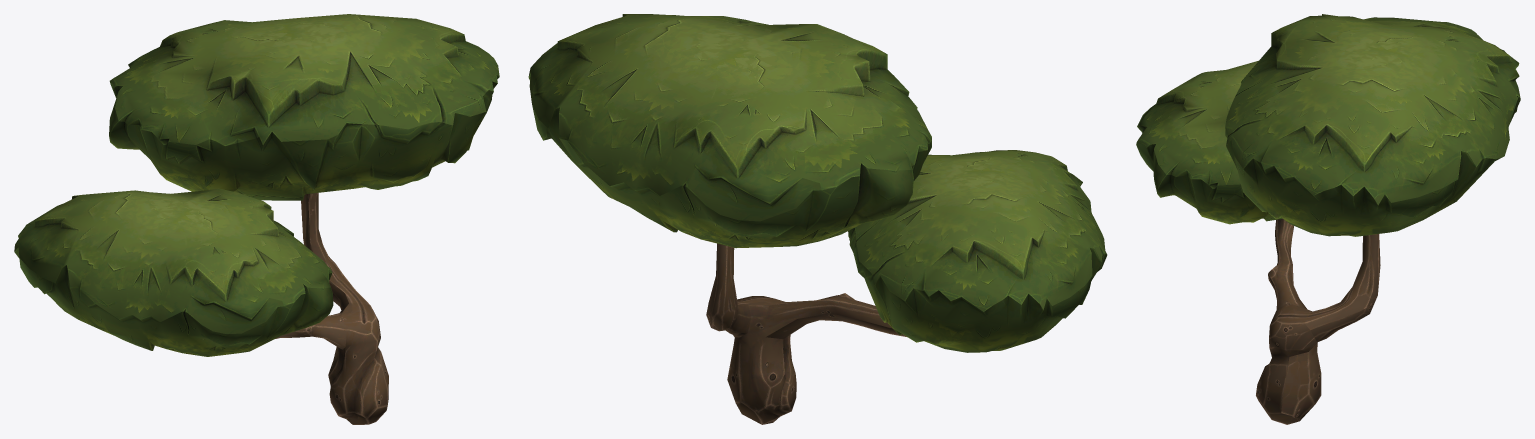
File: Tree.fbx
The picture shows the model from 3 angles, left to right: view 1: azimuth 30°, elevation 25°; view 2: azimuth 150°, elevation 25°; view 3: azimuth 270°, elevation 25°; orthographic projection. The views are drawn at different scales.
Visible parts, largest first — view 1: node_id74, node_id72; view 2: node_id74, node_id72; view 3: node_id74, node_id72.
Boxes of the visible parts, x1,y1,x2,y2 form: node_id74: [14, 14, 499, 356]; node_id72: [274, 193, 388, 424]; node_id74: [528, 14, 1107, 352]; node_id72: [706, 243, 906, 424]; node_id74: [1136, 14, 1520, 236]; node_id72: [1256, 219, 1380, 424].
Size of the model in its own units: 0.5727 by 0.4309 by 0.4131.
Materials: 2 (2 with a texture image).
